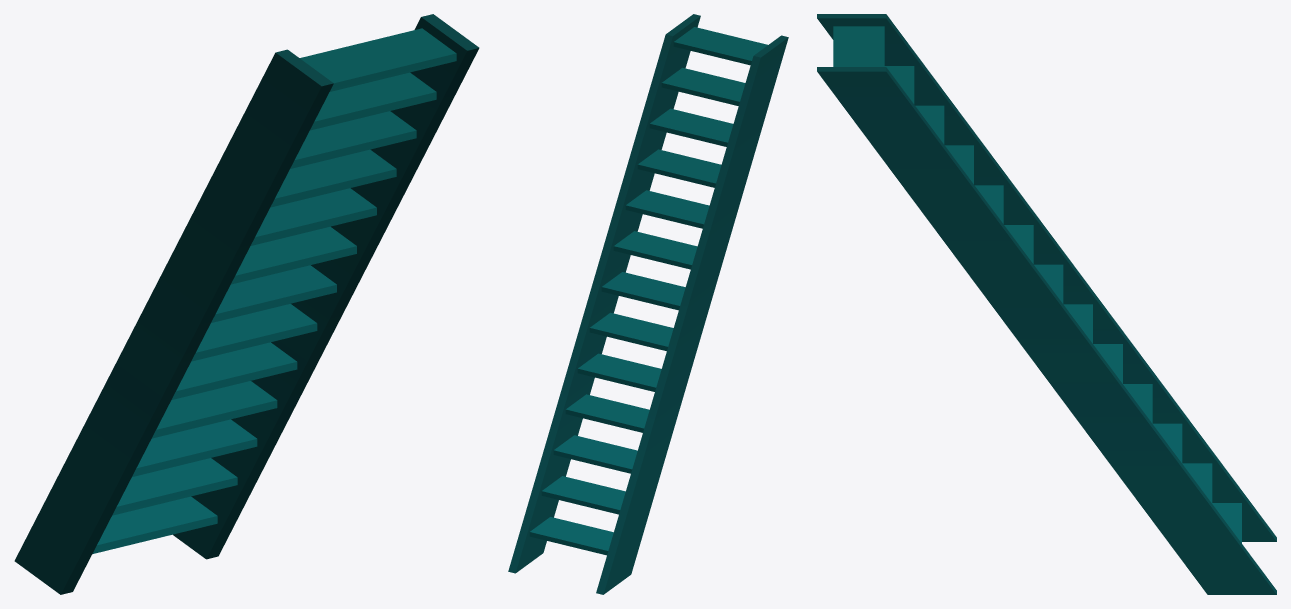
Rendered from FireEscape_C_2.fbx.
The picture shows the model from 3 angles, left to right: view 1: azimuth 30°, elevation 25°; view 2: azimuth 150°, elevation 25°; view 3: azimuth 270°, elevation 25°; orthographic projection. The views are drawn at different scales.
Parts seen in each view (by area): view 1: FireEscape_C_2; view 2: FireEscape_C_2; view 3: FireEscape_C_2.
Part boxes in pixels (left/top/right/bottom): FireEscape_C_2: left=14, top=14, right=479, bottom=594; FireEscape_C_2: left=508, top=14, right=788, bottom=594; FireEscape_C_2: left=817, top=14, right=1276, bottom=594.
Size of the model in its own units: 76.75 by 325 by 259.
